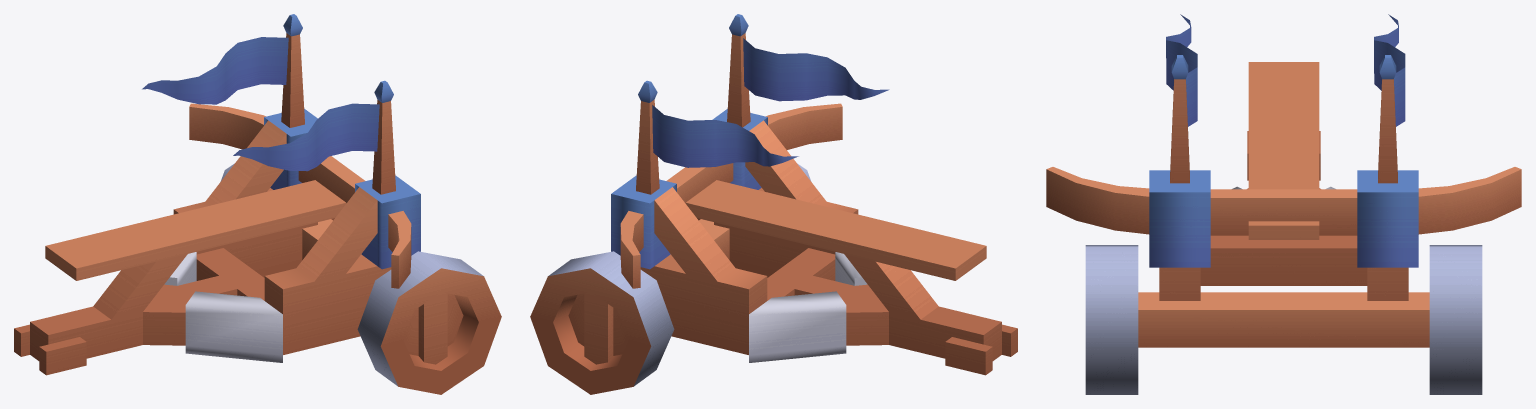
Rendered from siege_balista_no_arraow.glb.
3 renders of one model, left to right at view 1: azimuth 30°, elevation 25°; view 2: azimuth 150°, elevation 25°; view 3: azimuth 270°, elevation 25°, orthographic. The views are drawn at different scales.
Parts seen in each view (by area): view 1: siege-ballista, wheel.001; view 2: siege-ballista, wheel; view 3: siege-ballista, wheel, wheel.001.
Boxes of the visible parts, left/top/right/bottom form: siege-ballista: left=14, top=14, right=420, bottom=375; wheel.001: left=357, top=251, right=501, bottom=394; siege-ballista: left=611, top=14, right=1017, bottom=375; wheel: left=530, top=251, right=674, bottom=394; siege-ballista: left=1046, top=14, right=1521, bottom=347; wheel: left=1429, top=245, right=1482, bottom=394; wheel.001: left=1085, top=245, right=1138, bottom=394.
Bounding box in the file's own units: 1.28 × 0.9103 × 1.2.
1 material, 1 textured.
